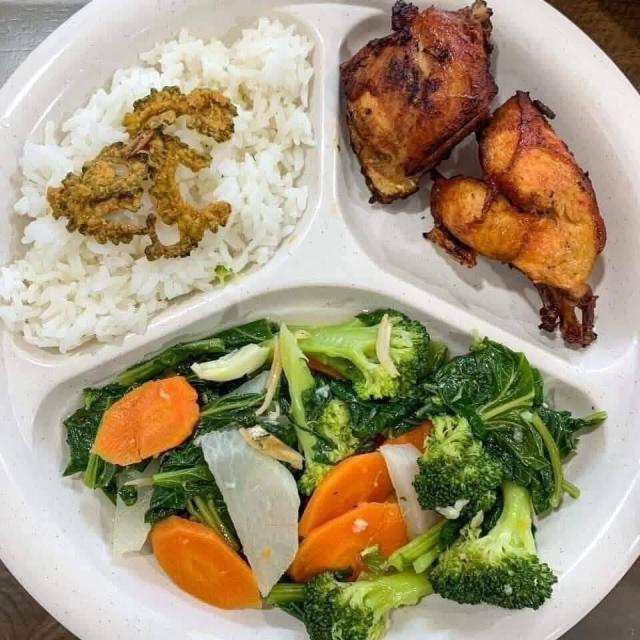Chicken: (348, 0, 607, 349)
Plate: (0, 0, 639, 639)
Rice: (0, 21, 312, 347)
Vegetables: (65, 308, 608, 640)
